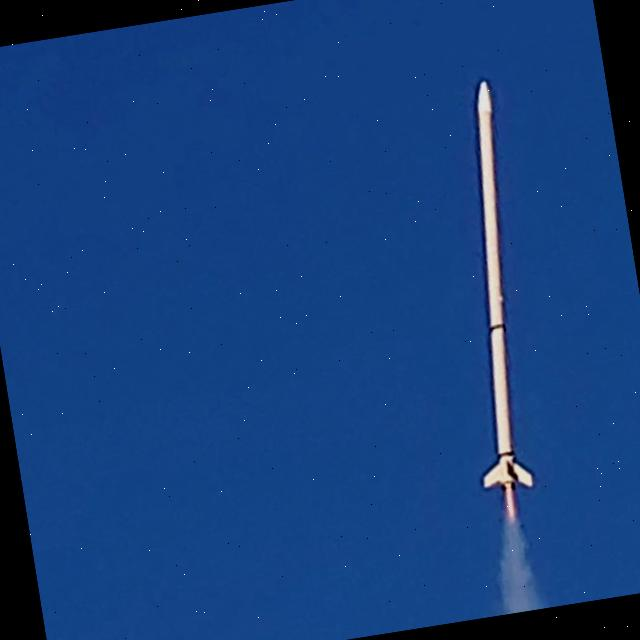rocket: (473, 79, 532, 520)
